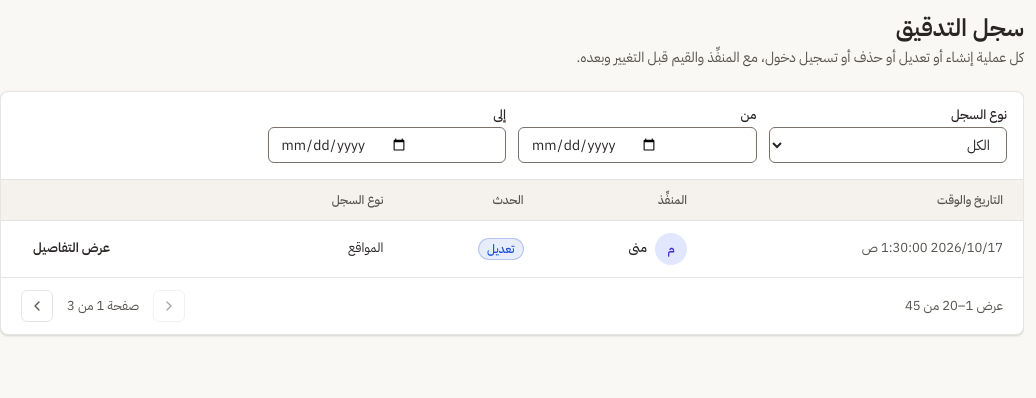
Test: clear filters resets the query and the page
Click the button named "التالي" at {"x": 37, "y": 306}, box [21, 290, 53, 322]
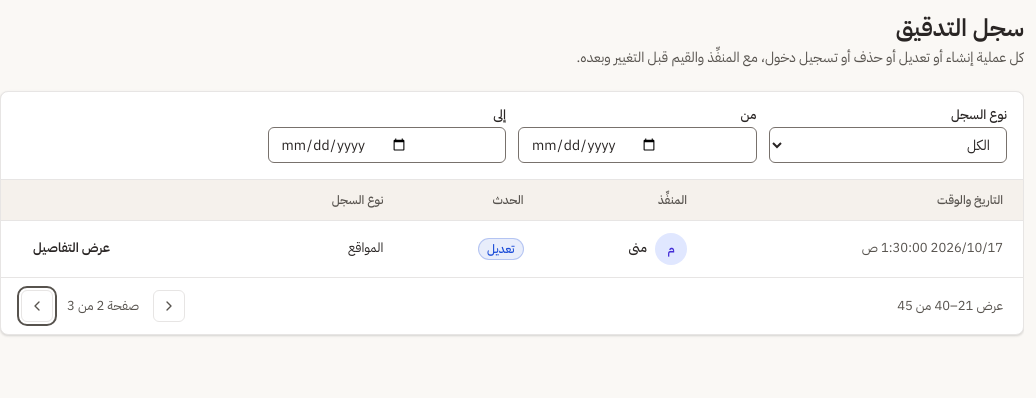
Expected: the button "مسح عوامل التصفية" is not shown
Select "المواقع" in the dropdown labelled "نوع السجل" at {"x": 888, "y": 145}, box [768, 127, 1007, 163]
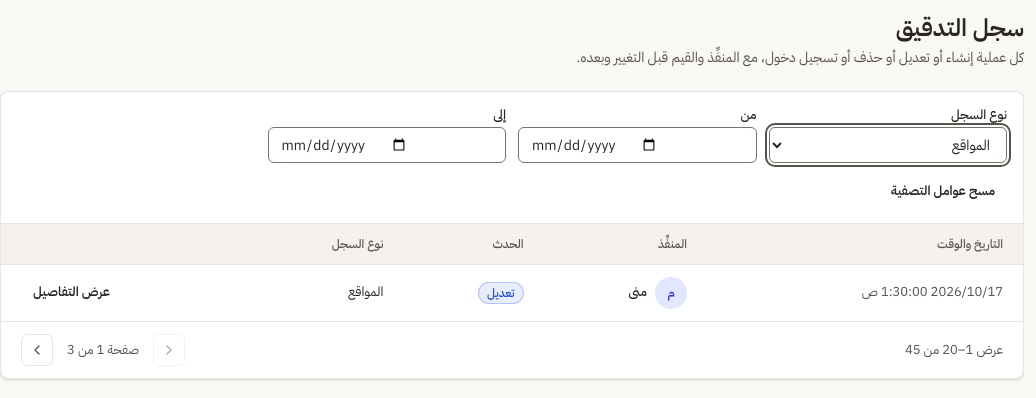
Click the button "مسح عوامل التصفية" at {"x": 943, "y": 191}, box [879, 175, 1007, 207]
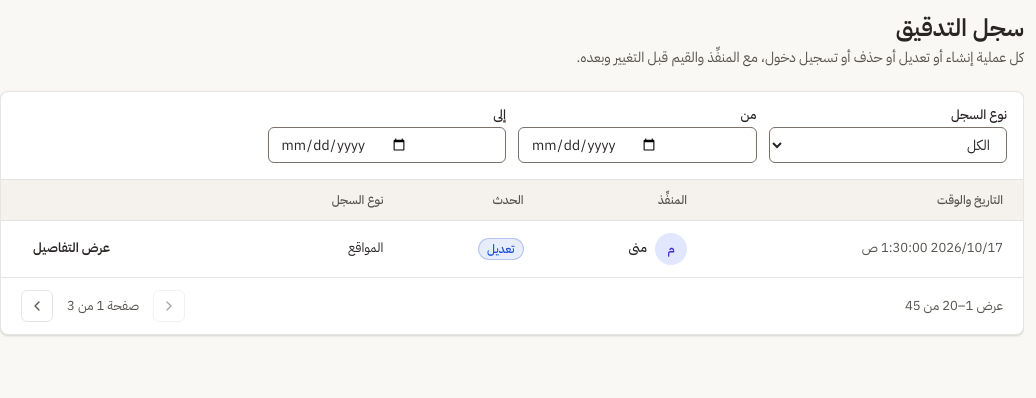
Now the text "صفحة 1 من 3" is shown, box [67, 297, 139, 314]
Now the button "مسح عوامل التصفية" is gone
